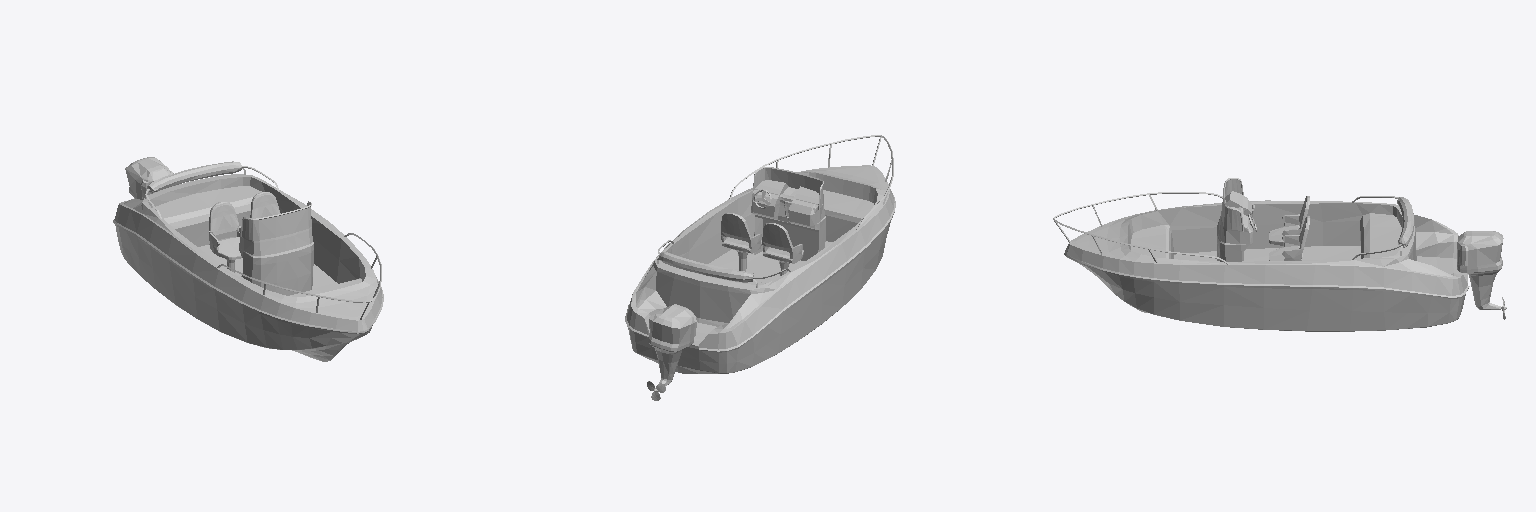
File: Powerboat_EngineDown.obj
3 renders of one model, left to right at view 1: azimuth 30°, elevation 25°; view 2: azimuth 150°, elevation 25°; view 3: azimuth 270°, elevation 25°, orthographic.
Visible parts, largest first — view 1: Powerboat_EngineDown_LP; view 2: Powerboat_EngineDown_LP; view 3: Powerboat_EngineDown_LP.
Boxes of the visible parts, <box> form: Powerboat_EngineDown_LP: <box>113,157,383,361</box>; Powerboat_EngineDown_LP: <box>625,135,895,400</box>; Powerboat_EngineDown_LP: <box>1053,178,1506,331</box>.
Size of the model in its own units: 1.95 by 1.62 by 5.28.